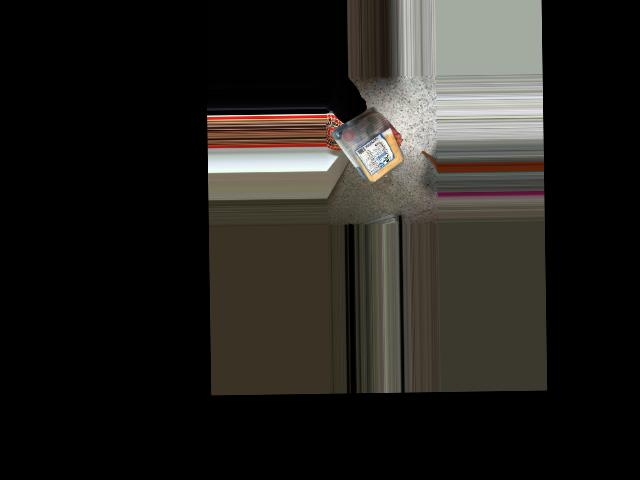cheese: (359, 117, 396, 183)
